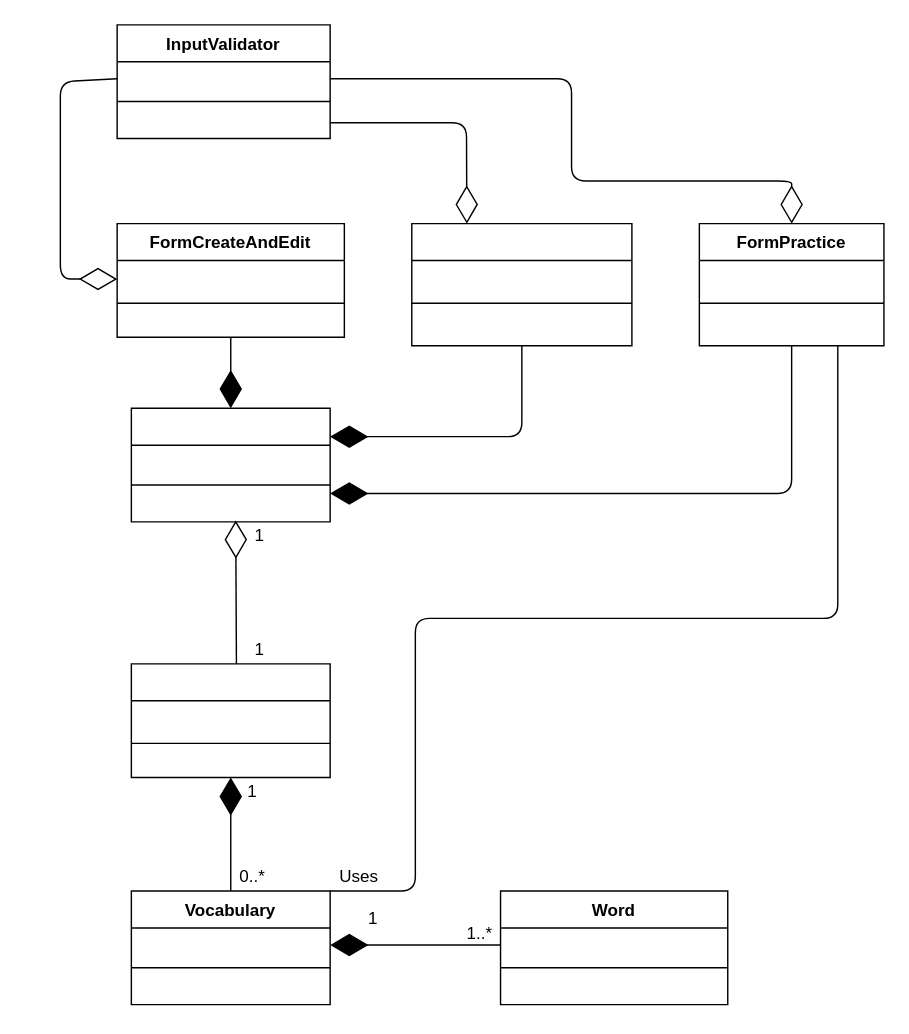
Image size: 909x1034. Some labels were removed from this diagram. The centre of each missing label's shape, as x and y in pixels:
"FormMain" belongs at point 230,464.
"FormPracticeSettings" belongs at point 521,284.
"VocabularyManager" belongs at point 230,719.
